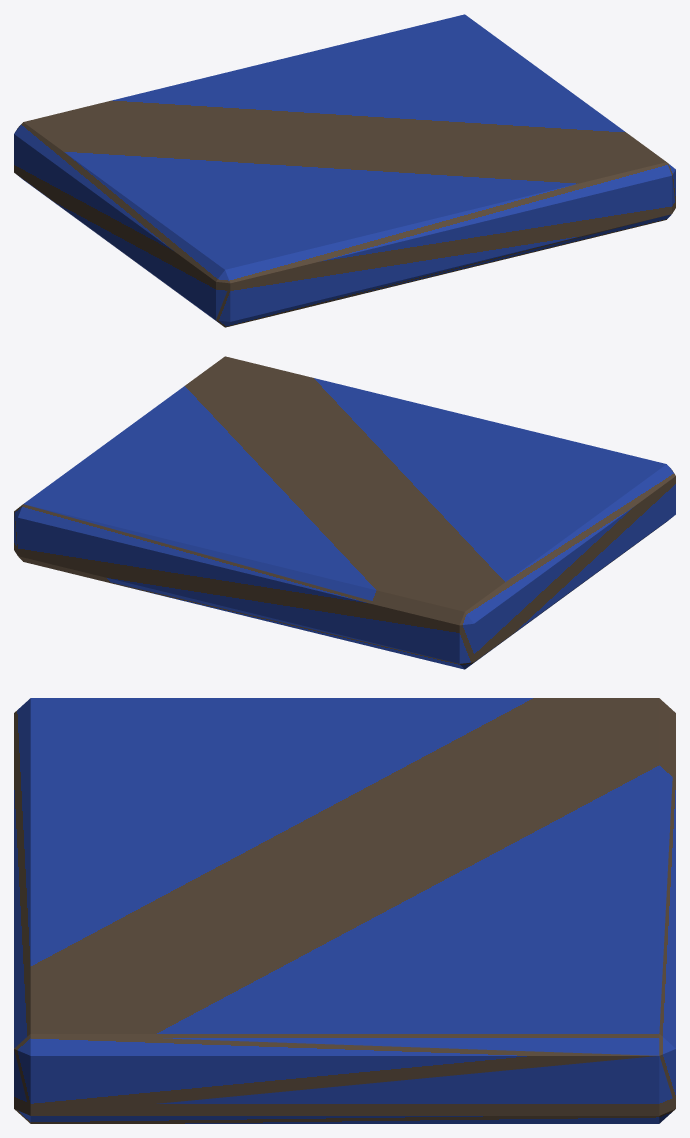
File: matches.glb
3 views of the same model, one above another, from view 1: azimuth 30°, elevation 25°; view 2: azimuth 150°, elevation 25°; view 3: azimuth 270°, elevation 25° (orthographic). The views are drawn at different scales.
Visible parts, largest first — view 1: block_book; view 2: block_book; view 3: block_book.
Boxes of the visible parts, left/top/right/bottom form: block_book: left=14, top=14, right=675, bottom=327; block_book: left=14, top=356, right=675, bottom=669; block_book: left=14, top=698, right=675, bottom=1123.
Size of the model in its own units: 0.05 by 0.006 by 0.04.
Materials: 1 (1 with a texture image).
